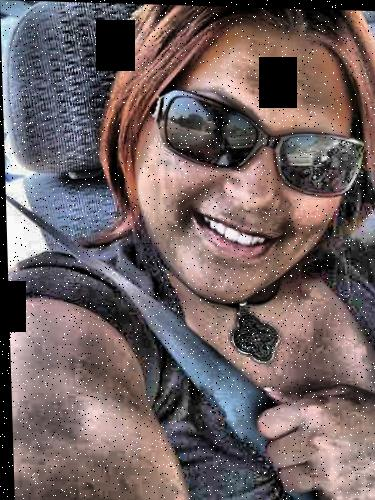seatbelt: (22, 198, 317, 448)
